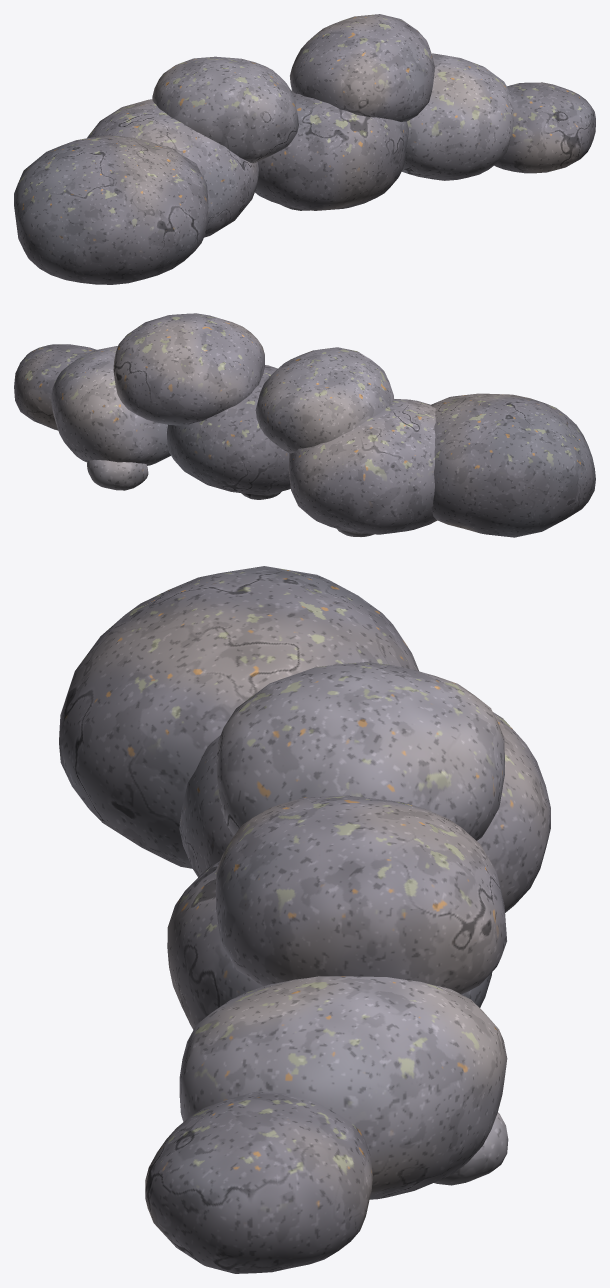
File: rockfall.glb
The picture shows the model from 3 angles, top to bottom: view 1: azimuth 30°, elevation 25°; view 2: azimuth 150°, elevation 25°; view 3: azimuth 270°, elevation 25°; orthographic projection. The views are drawn at different scales.
Parts seen in each view (by area): view 1: Rockfall; view 2: Rockfall; view 3: Rockfall.
Boxes of the visible parts, left/top/right/bottom form: Rockfall: left=14, top=14, right=595, bottom=284; Rockfall: left=14, top=313, right=595, bottom=537; Rockfall: left=59, top=566, right=550, bottom=1273.
Size of the model in its own units: 3.92 by 1.06 by 1.48.
Materials: 1 (1 with a texture image).
